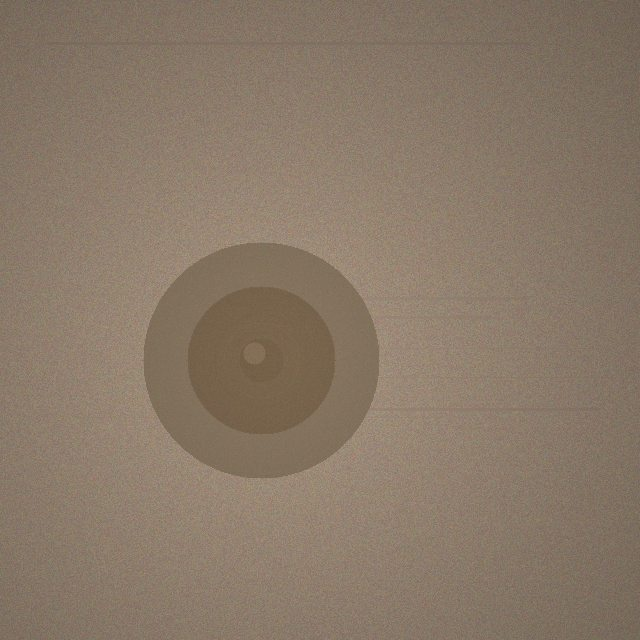good: (143, 242, 379, 478)
